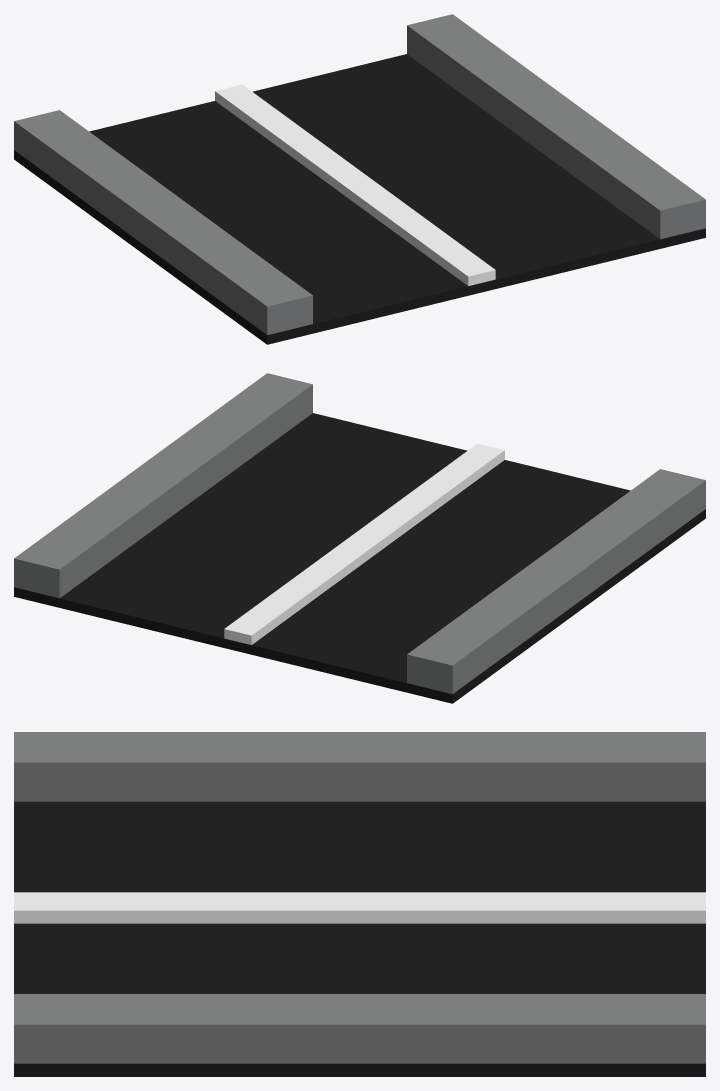
File: straightRoad.gltf
3 views of the same model, one above another, from view 1: azimuth 30°, elevation 25°; view 2: azimuth 150°, elevation 25°; view 3: azimuth 270°, elevation 25° (orthographic). The views are drawn at different scales.
Visible parts, largest first — view 1: RoadPlane, gutter (×2), roadLine; view 2: RoadPlane, gutter (×2), roadLine; view 3: RoadPlane, gutter (×2), roadLine.
Part boxes in pixels (x1,y1,x2,y2): RoadPlane: (14, 54, 705, 344); gutter (×2): (14, 14, 705, 335); roadLine: (215, 84, 495, 285); RoadPlane: (14, 413, 705, 703); gutter (×2): (14, 373, 705, 694); roadLine: (224, 443, 504, 644); RoadPlane: (14, 801, 705, 1076); gutter (×2): (14, 732, 705, 1063); roadLine: (14, 892, 705, 923).
Bounding box in the file's own units: 3 × 0.25 × 3.
1 material, 1 textured.
